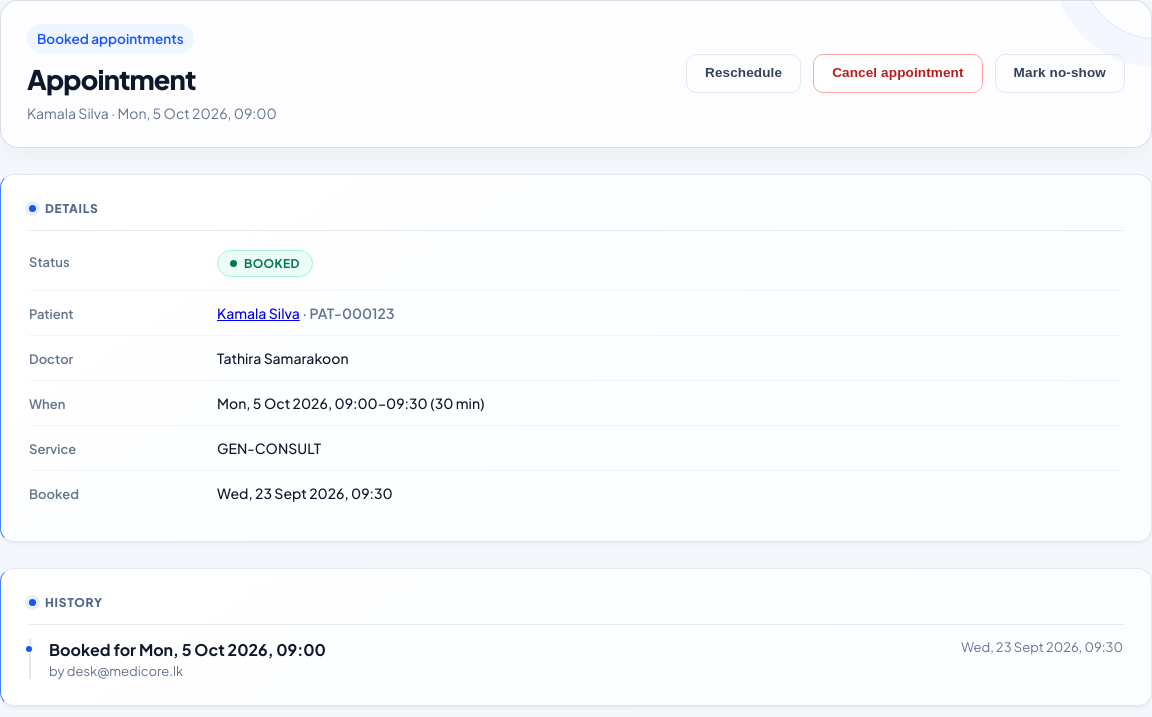
Test: AppointmentDetailPage (SCRUM-36) › reschedules to one of the doctor's free times
This screenshot has width=1152, height=717.
Step 1. Click the button "Reschedule" → (744, 74), box left=686, top=54, right=801, bottom=93
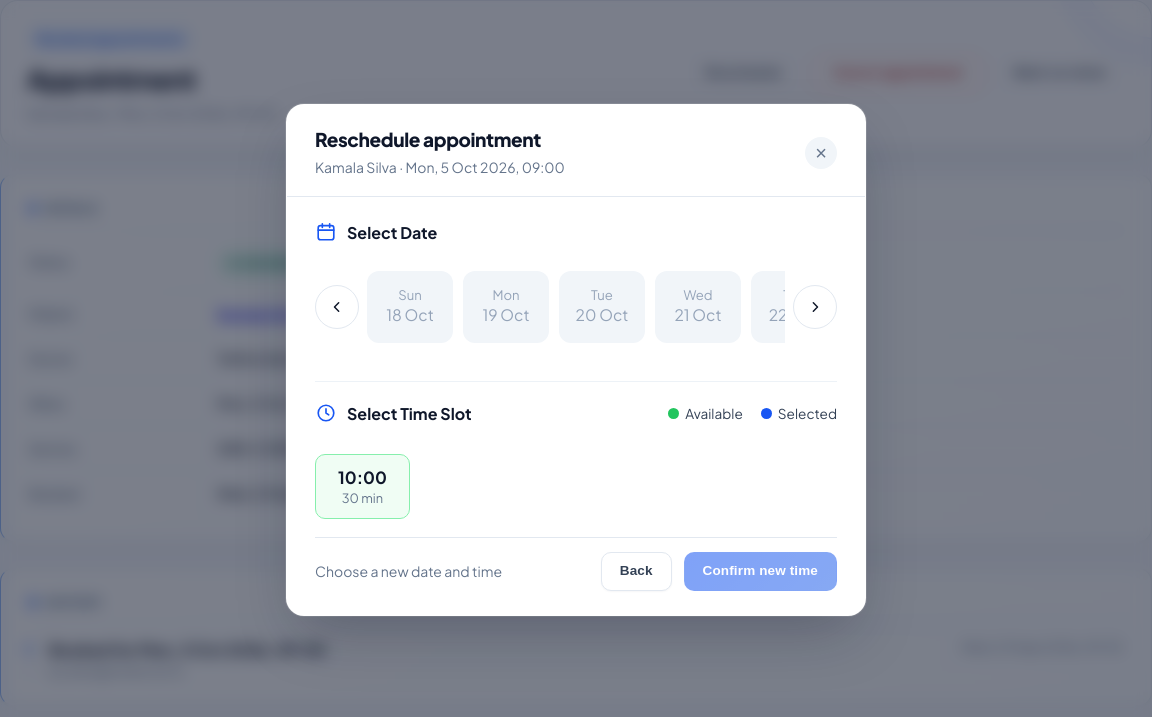
Step 2. Click the button with test id "slot-option" → (362, 486), box left=315, top=454, right=410, bottom=519
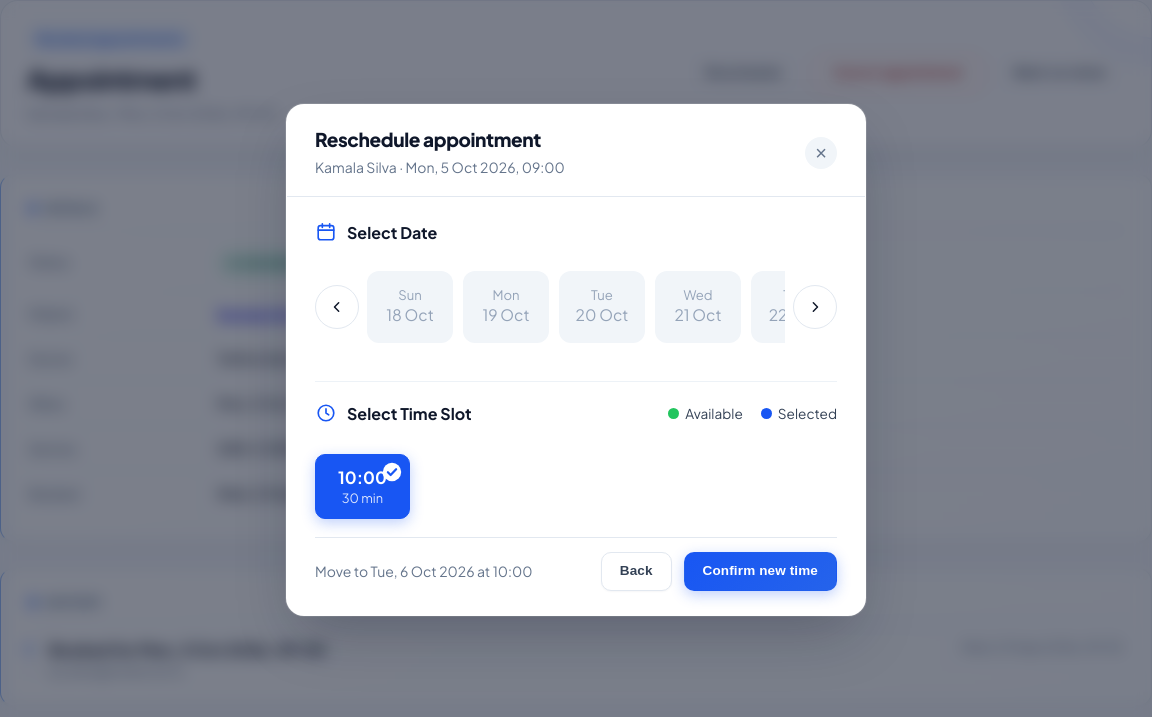
Check: the text with test id "reschedule-choice" reads "Move to Tue, 6 Oct 2026 at 10:00", box left=315, top=562, right=533, bottom=580
Step 3. Click the button "Confirm new time" → (760, 571), box left=684, top=552, right=837, bottom=591
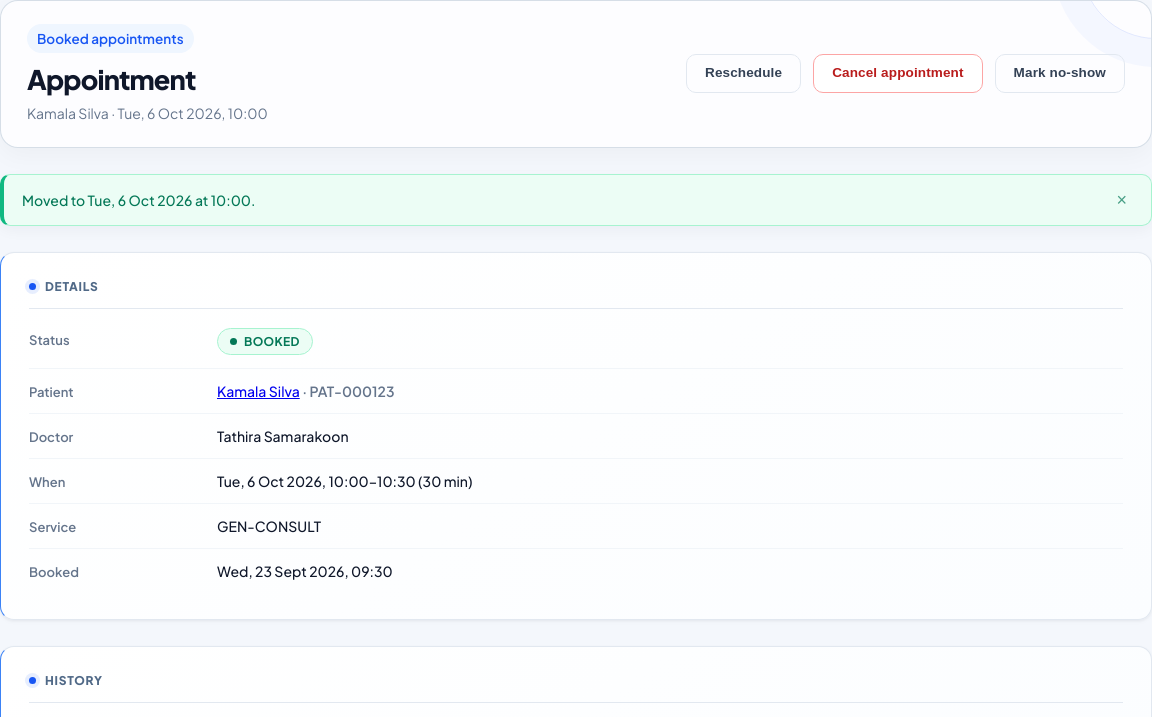
Check: the dialog is gone
Check: the message shows "Moved to Tue, 6 Oct 2026 at 10:00.", box left=22, top=191, right=255, bottom=209
Check: the text with test id "appointment-when" shows "Tue, 6 Oct 2026, 10:00", box left=217, top=472, right=369, bottom=490
